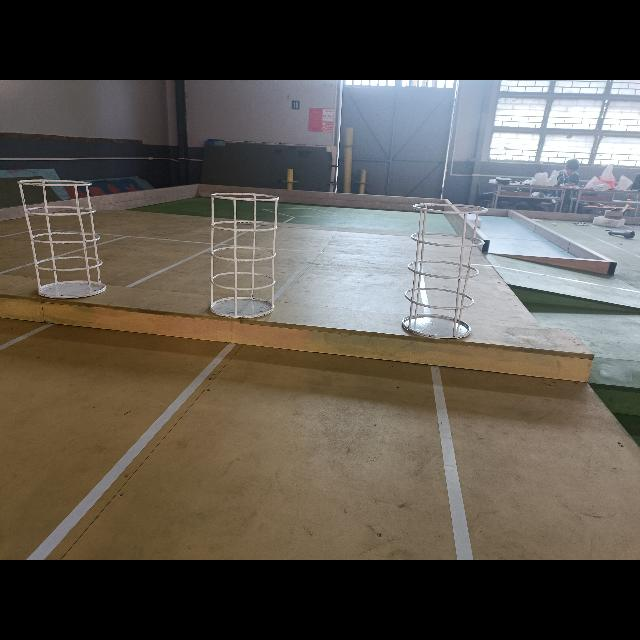S: (400, 202, 489, 342), (15, 177, 109, 301), (209, 190, 281, 320)
